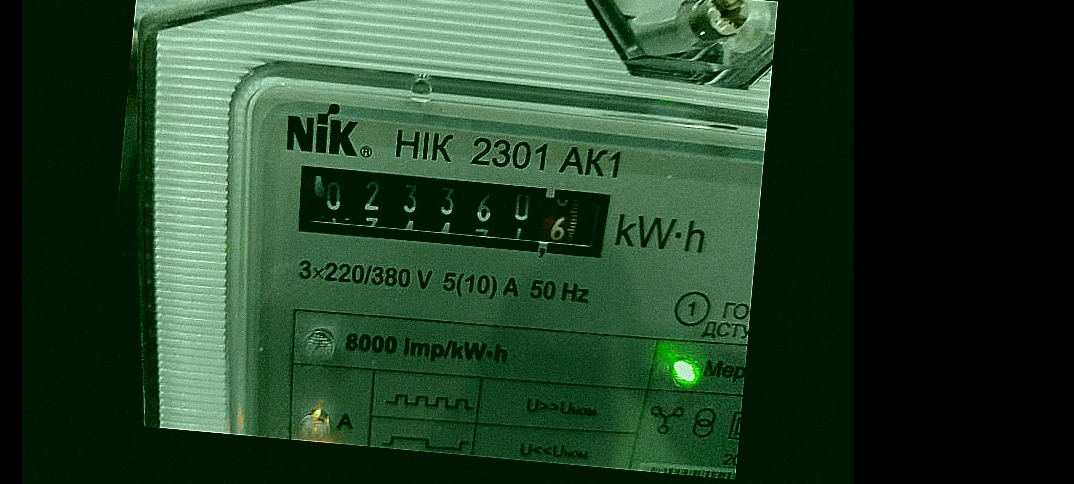0: (322, 176, 346, 211), (513, 189, 532, 222)
2: (360, 177, 386, 213)
3: (398, 180, 422, 214), (437, 183, 459, 215)
6: (546, 210, 570, 241), (473, 189, 495, 222)
screen: (277, 146, 626, 274)
